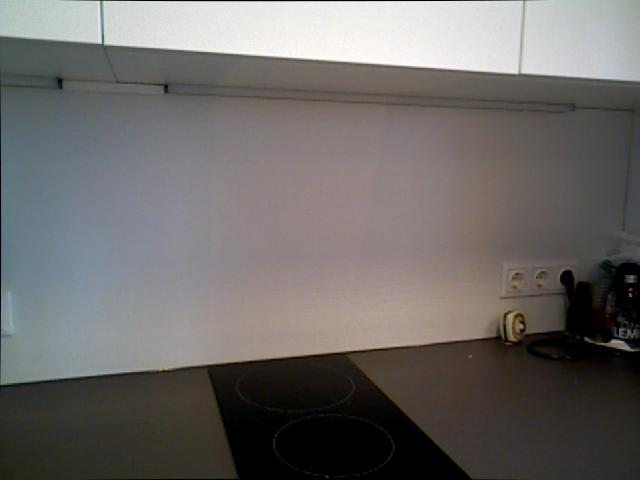giraffe: (498, 309, 529, 346)
